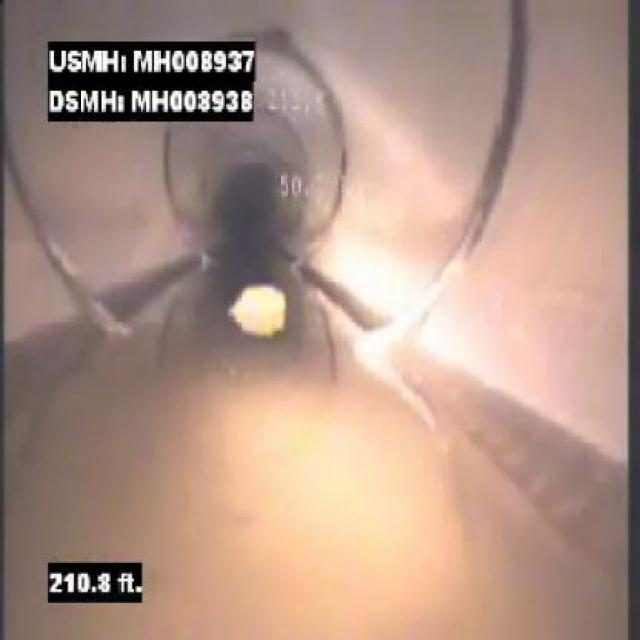Debris: (212, 264, 325, 370)
